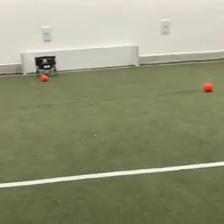ball: (203, 80, 214, 91), (39, 72, 49, 82)
goal: (18, 43, 141, 78)
robot: (33, 54, 58, 77)
